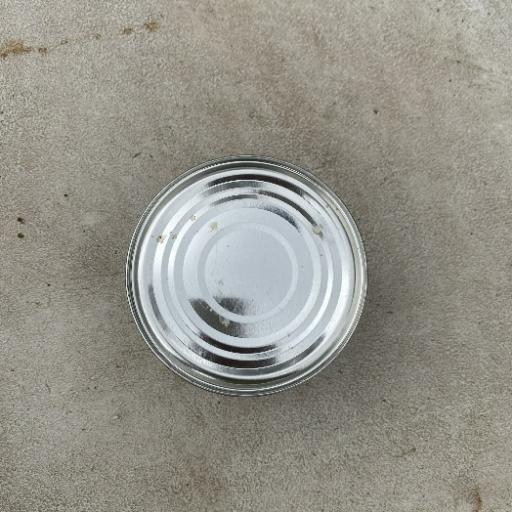Metal: (123, 152, 369, 398)
